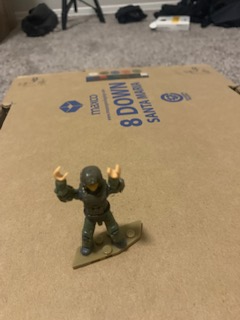soldier: (51, 161, 140, 260)
